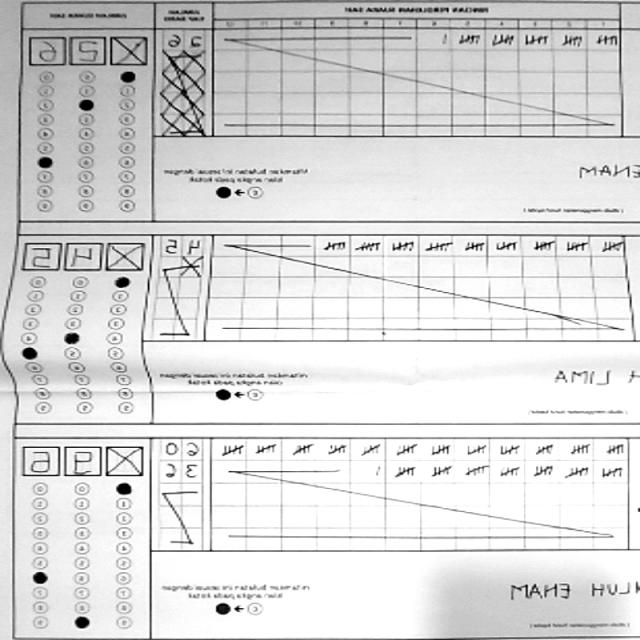Suara: (19, 438, 152, 480), (25, 30, 153, 66), (22, 240, 147, 272)
